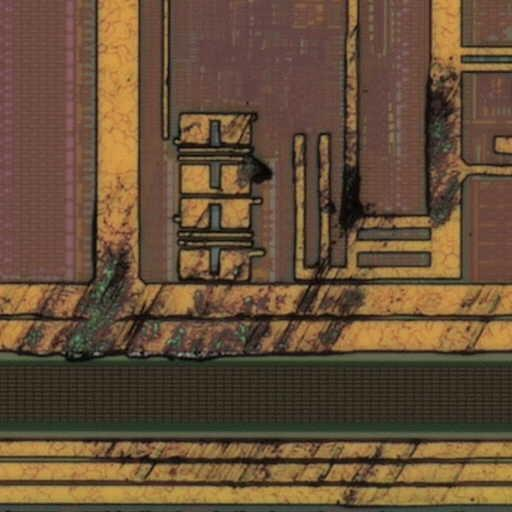SCRATCH: (1, 63, 510, 511)
